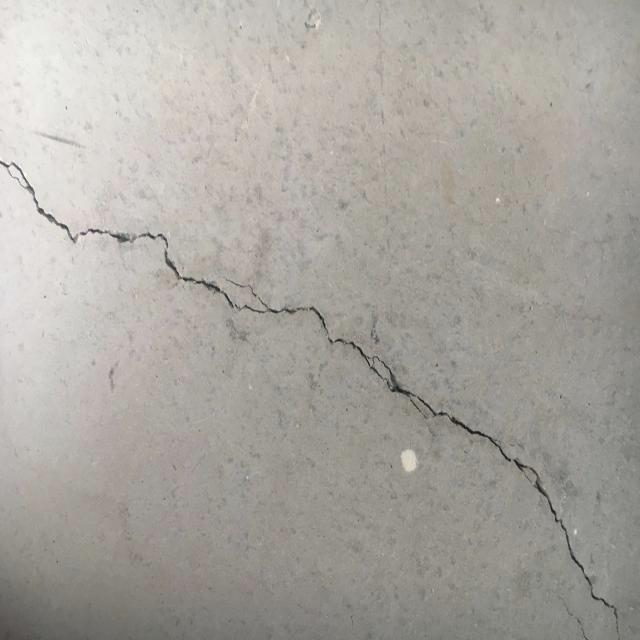SurfaceCrack: (0, 29, 639, 638)
